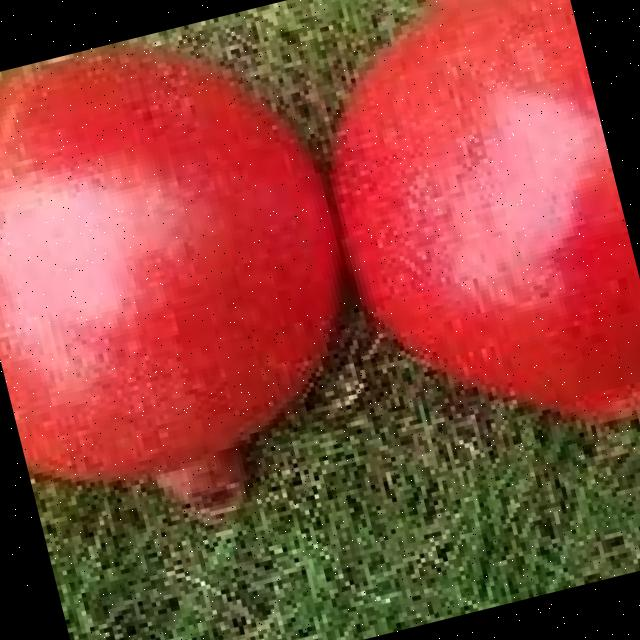Good_Pomegranate-50-60-days: (0, 0, 640, 519)
